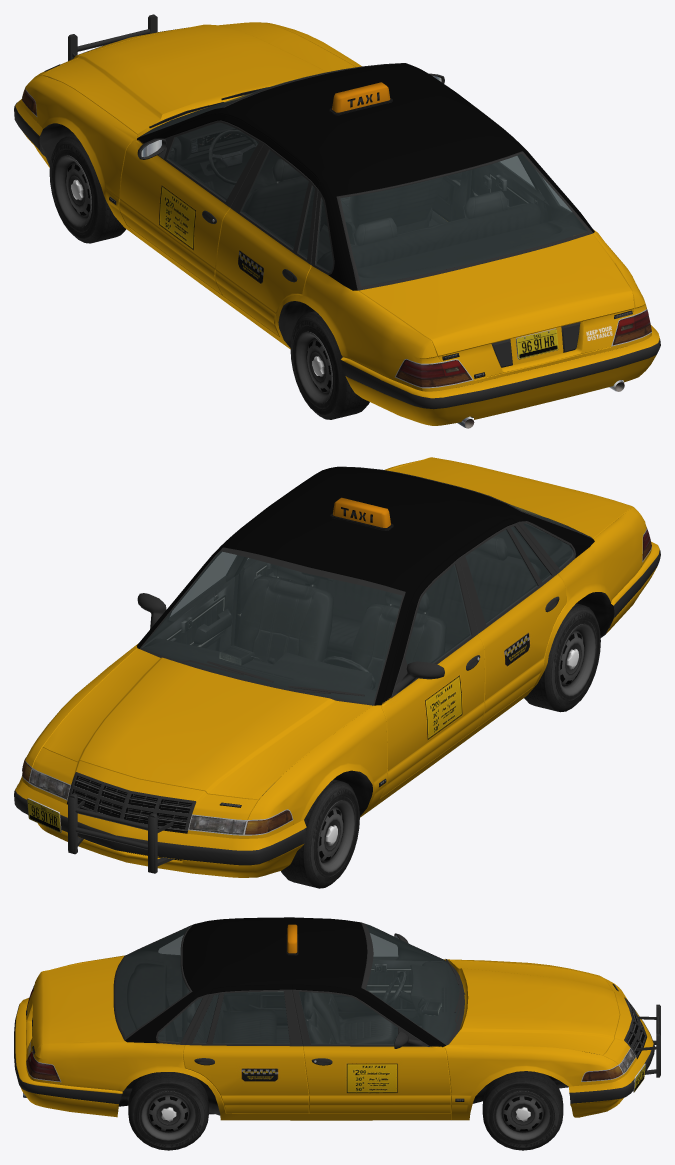
File: car.glb
3 renders of one model, top to bottom at view 1: azimuth 30°, elevation 25°; view 2: azimuth 150°, elevation 25°; view 3: azimuth 270°, elevation 25°, orthographic. The views are drawn at different scales.
Visible parts, largest first — view 1: Illinois90taxi_Body_Illinois90taxi_body_0, Illinois90taxi_Interior_GEN4DR_INTERIOR_0, Illinois90taxi_Trunkdoor_Illinois90taxi_body_0, Illinois90taxi_Rear_Glass_UCB_GLASS_CLEAN_0, Illinois90taxi_Hood_Illinois90taxi_body_0, Illinois90taxi_Bottom_UCB_BOTTOM_0, Illinois90taxi_Body_Glass_UCB_GLASS_CLEAN_0, Illinois90taxi_Bumper_rear_Illinois90taxi_body_0, Illinois90taxi_Wheel_RL_RB1c_Tire_0, Illinois90taxi_Wheel_FL_RB1c_Tire_0, Illinois90taxi_Bumper_rear_inner_UCB_BOTTOM_0, Illinois90taxi_Stoplights_glass_Riverside88_lights_0 (+5 smaller); view 2: Illinois90taxi_Body_Illinois90taxi_body_0, Illinois90taxi_Interior_GEN4DR_INTERIOR_0, Illinois90taxi_Hood_Illinois90taxi_body_0, Illinois90taxi_Windshield_UCB_GLASS_CLEAN_0, Illinois90taxi_Bottom_UCB_BOTTOM_0, Illinois90taxi_Body_Glass_UCB_GLASS_CLEAN_0, Illinois90taxi_Trunkdoor_Illinois90taxi_body_0, Illinois90taxi_Bumper_front_Illinois90taxi_body_0, Illinois90taxi_Bumper_front_inner_UCB_BOTTOM_0, Illinois90taxi_Wheel_FL_RB1c_Tire_0, Illinois90taxi_Wheel_RL_RB1c_Tire_0, Illinois90taxi_Headlights_Glass_Riverside88_lights_0 (+5 smaller); view 3: Illinois90taxi_Body_Illinois90taxi_body_0, Illinois90taxi_Interior_GEN4DR_INTERIOR_0, Illinois90taxi_Hood_Illinois90taxi_body_0, Illinois90taxi_Body_Glass_UCB_GLASS_CLEAN_0, Illinois90taxi_Bottom_UCB_BOTTOM_0, Illinois90taxi_Trunkdoor_Illinois90taxi_body_0, Illinois90taxi_Windshield_UCB_GLASS_CLEAN_0, Illinois90taxi_Wheel_FR_RB1c_Tire_0, Illinois90taxi_Wheel_RR_RB1c_Tire_0, Illinois90taxi_Rear_Glass_UCB_GLASS_CLEAN_0, Illinois90taxi_Bumper_rear_Illinois90taxi_body_0, Illinois90taxi_Bumper_front_Illinois90taxi_body_0 (+4 smaller).
Boxes of the visible parts, box(x1,y1,x2,y2) form: Illinois90taxi_Body_Illinois90taxi_body_0: box(21, 22, 651, 391); Illinois90taxi_Interior_GEN4DR_INTERIOR_0: box(143, 100, 587, 311); Illinois90taxi_Trunkdoor_Illinois90taxi_body_0: box(359, 233, 634, 380); Illinois90taxi_Rear_Glass_UCB_GLASS_CLEAN_0: box(340, 154, 587, 286); Illinois90taxi_Hood_Illinois90taxi_body_0: box(42, 22, 355, 137); Illinois90taxi_Bottom_UCB_BOTTOM_0: box(22, 27, 651, 428); Illinois90taxi_Body_Glass_UCB_GLASS_CLEAN_0: box(167, 122, 571, 272); Illinois90taxi_Bumper_rear_Illinois90taxi_body_0: box(341, 325, 659, 425); Illinois90taxi_Wheel_RL_RB1c_Tire_0: box(290, 311, 369, 419); Illinois90taxi_Wheel_FL_RB1c_Tire_0: box(49, 134, 126, 243); Illinois90taxi_Bumper_rear_inner_UCB_BOTTOM_0: box(341, 338, 660, 409); Illinois90taxi_Stoplights_glass_Riverside88_lights_0: box(399, 308, 650, 378); Illinois90taxi_Body_Illinois90taxi_body_0: box(21, 458, 651, 838); Illinois90taxi_Interior_GEN4DR_INTERIOR_0: box(142, 512, 571, 704); Illinois90taxi_Hood_Illinois90taxi_body_0: box(43, 648, 372, 799); Illinois90taxi_Windshield_UCB_GLASS_CLEAN_0: box(142, 551, 402, 704); Illinois90taxi_Bottom_UCB_BOTTOM_0: box(22, 466, 651, 835); Illinois90taxi_Body_Glass_UCB_GLASS_CLEAN_0: box(170, 523, 573, 664); Illinois90taxi_Trunkdoor_Illinois90taxi_body_0: box(389, 457, 632, 538); Illinois90taxi_Bumper_front_Illinois90taxi_body_0: box(15, 778, 306, 877); Illinois90taxi_Bumper_front_inner_UCB_BOTTOM_0: box(14, 788, 306, 873); Illinois90taxi_Wheel_FL_RB1c_Tire_0: box(281, 779, 359, 888); Illinois90taxi_Wheel_RL_RB1c_Tire_0: box(524, 603, 600, 712); Illinois90taxi_Headlights_Glass_Riverside88_lights_0: box(29, 769, 246, 834); Illinois90taxi_Body_Illinois90taxi_body_0: box(26, 917, 636, 1120); Illinois90taxi_Interior_GEN4DR_INTERIOR_0: box(116, 924, 459, 1043); Illinois90taxi_Hood_Illinois90taxi_body_0: box(449, 960, 619, 1055); Illinois90taxi_Body_Glass_UCB_GLASS_CLEAN_0: box(158, 933, 397, 1044); Illinois90taxi_Bottom_UCB_BOTTOM_0: box(23, 922, 646, 1120); Illinois90taxi_Trunkdoor_Illinois90taxi_body_0: box(26, 956, 123, 1060); Illinois90taxi_Windshield_UCB_GLASS_CLEAN_0: box(366, 924, 460, 1043); Illinois90taxi_Wheel_FR_RB1c_Tire_0: box(482, 1071, 563, 1150); Illinois90taxi_Wheel_RR_RB1c_Tire_0: box(128, 1072, 208, 1150); Illinois90taxi_Rear_Glass_UCB_GLASS_CLEAN_0: box(115, 927, 189, 1036); Illinois90taxi_Bumper_rear_Illinois90taxi_body_0: box(15, 998, 122, 1117); Illinois90taxi_Bumper_front_Illinois90taxi_body_0: box(569, 1010, 653, 1117).
Bounding box in the file's own units: 2.09 × 1.53 × 5.21.
Materials: 7 (7 with a texture image).
